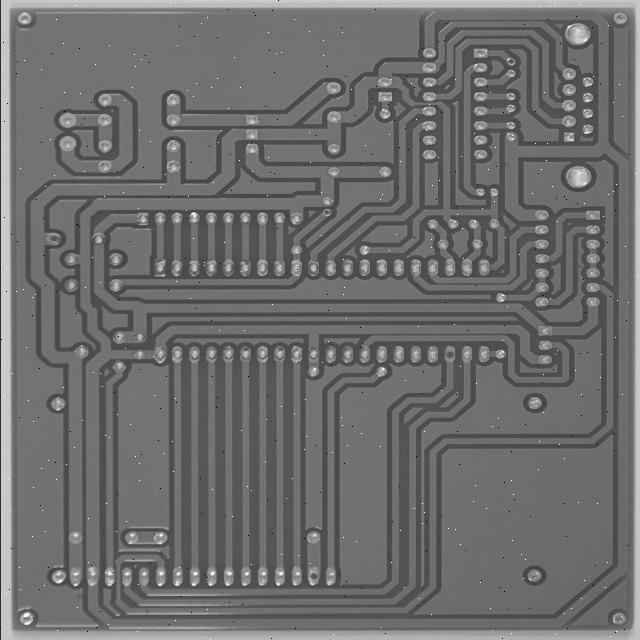missing_hole: (490, 323, 512, 340), (48, 197, 68, 215), (338, 564, 359, 580), (355, 171, 373, 185), (561, 7, 578, 21)
